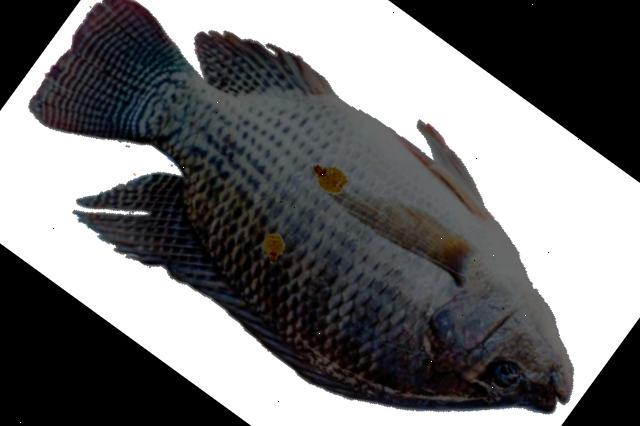Parasitic Disease: (31, 0, 572, 412), (31, 0, 572, 412)
